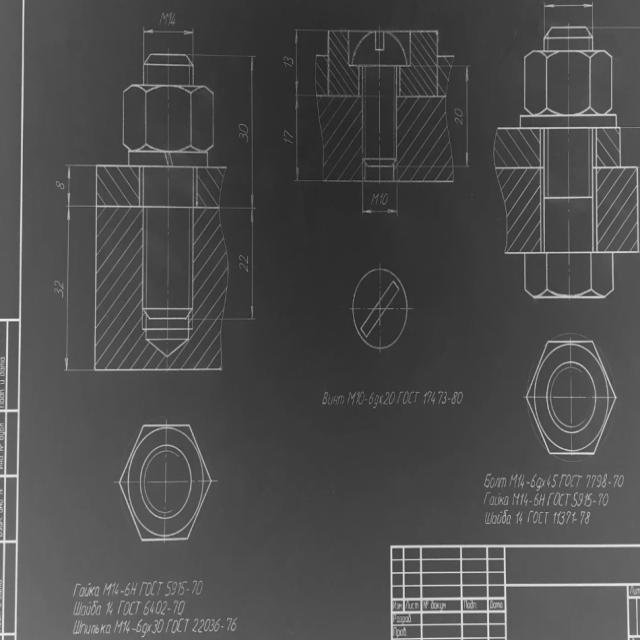marking_line: (65, 208, 74, 369), (249, 57, 256, 206), (249, 209, 257, 319), (293, 30, 300, 91), (294, 100, 299, 183), (144, 29, 193, 36), (465, 66, 468, 167), (545, 3, 593, 8), (67, 167, 72, 204), (363, 209, 397, 214)
numeric: (617, 474, 626, 492), (585, 472, 592, 491), (610, 474, 618, 490), (388, 392, 396, 408), (602, 493, 609, 510), (552, 473, 559, 489), (456, 390, 463, 406), (597, 473, 603, 491), (572, 492, 578, 510), (559, 510, 565, 527), (580, 510, 586, 526), (585, 509, 591, 525), (601, 472, 606, 491), (383, 391, 388, 409), (450, 390, 456, 405), (587, 493, 592, 510), (432, 390, 437, 407), (437, 390, 442, 406), (591, 475, 596, 490), (566, 510, 571, 525), (598, 492, 603, 507), (547, 474, 552, 489), (572, 511, 577, 525), (426, 390, 431, 404), (579, 493, 583, 510), (442, 390, 446, 407), (552, 510, 557, 523), (583, 492, 587, 507), (556, 510, 560, 524), (423, 392, 426, 405)
